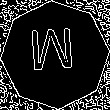M_S: (30, 28, 80, 82)
